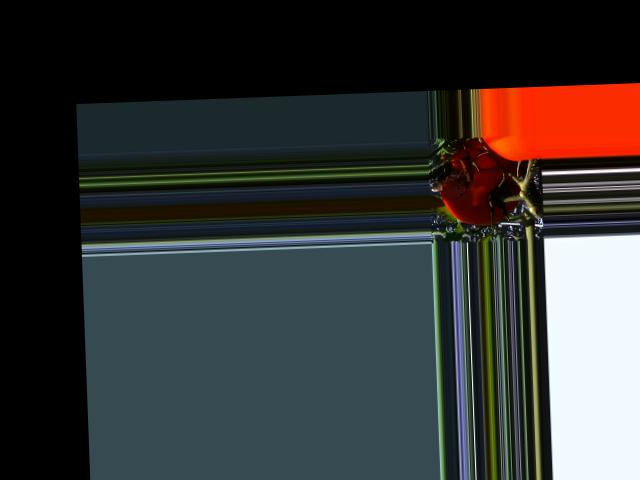tomato: (436, 137, 521, 226)
